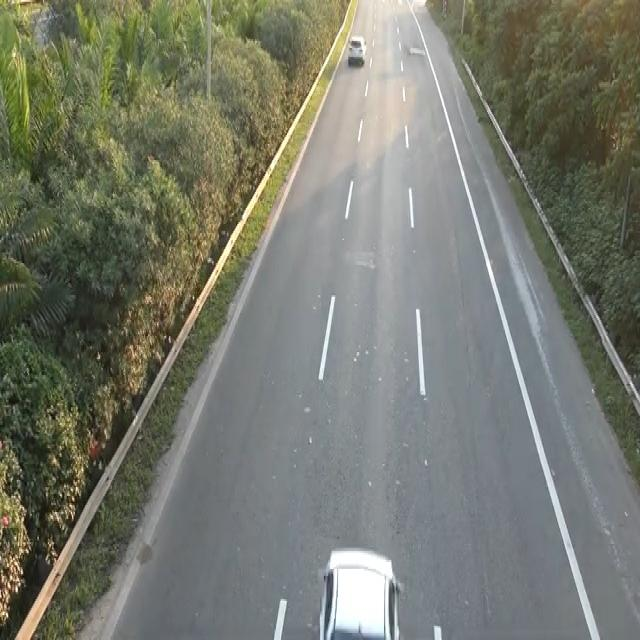bus: (315, 542, 402, 636)
car: (346, 32, 367, 66)
